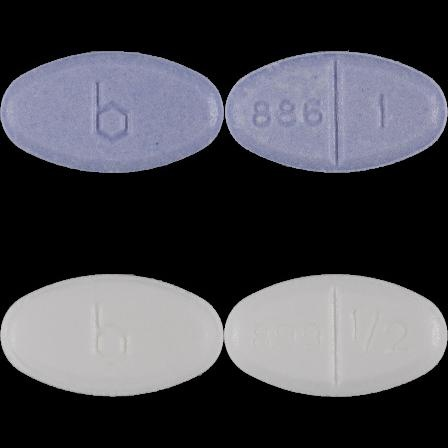69189-0886: (0, 0, 224, 224)
